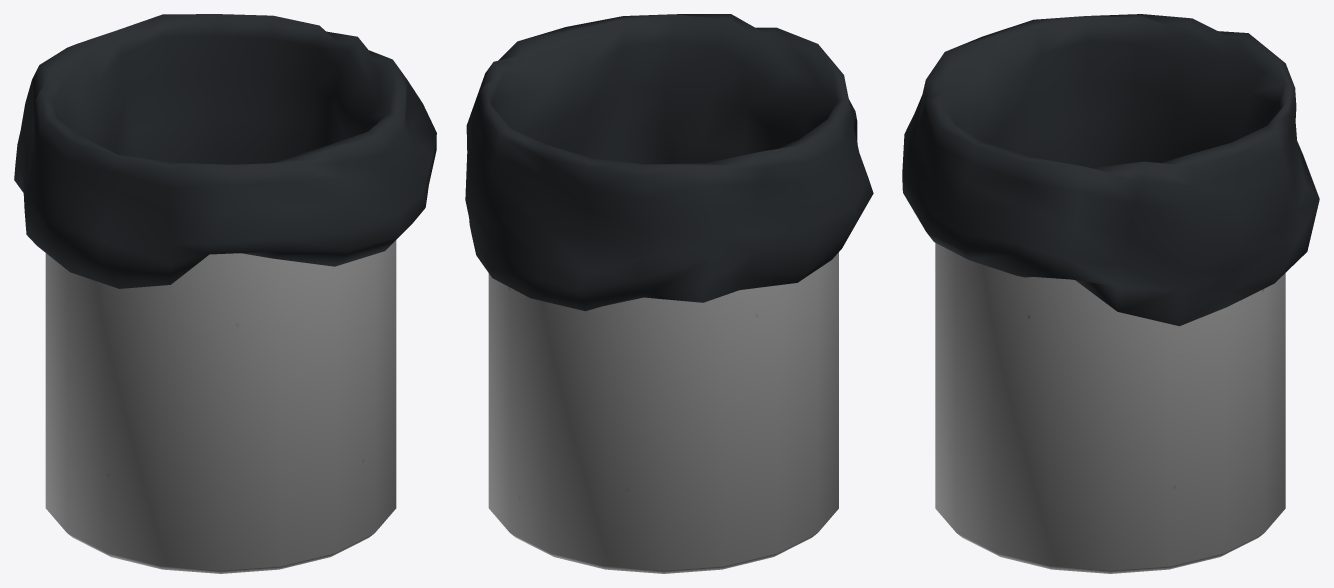
Rendered from Bin.fbx.
3 renders of one model, left to right at view 1: azimuth 30°, elevation 25°; view 2: azimuth 150°, elevation 25°; view 3: azimuth 270°, elevation 25°, orthographic.
Parts seen in each view (by area): view 1: bin; view 2: bin; view 3: bin.
Part boxes in pixels (box(x1,y1,x2,y2)): bin: box(14, 14, 436, 573); bin: box(465, 14, 873, 573); bin: box(902, 14, 1319, 573).
Size of the model in its own units: 30.55 by 32.18 by 29.33.
Materials: 1 (1 with a texture image).
